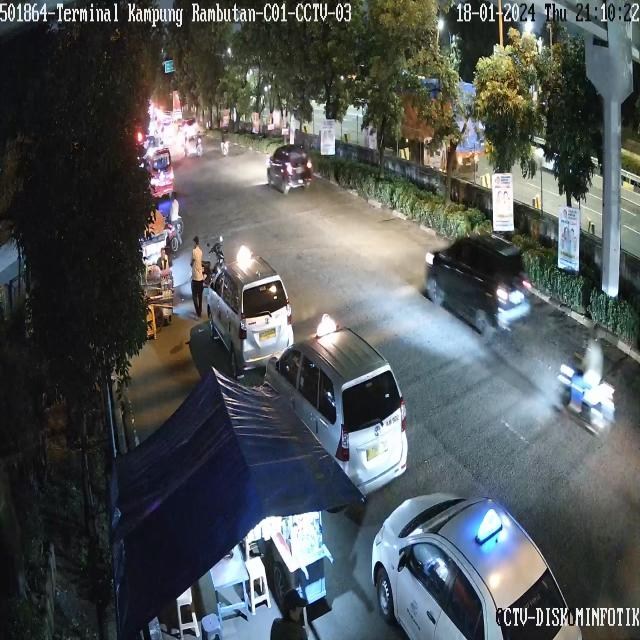Terpal: (132, 408, 294, 521)
